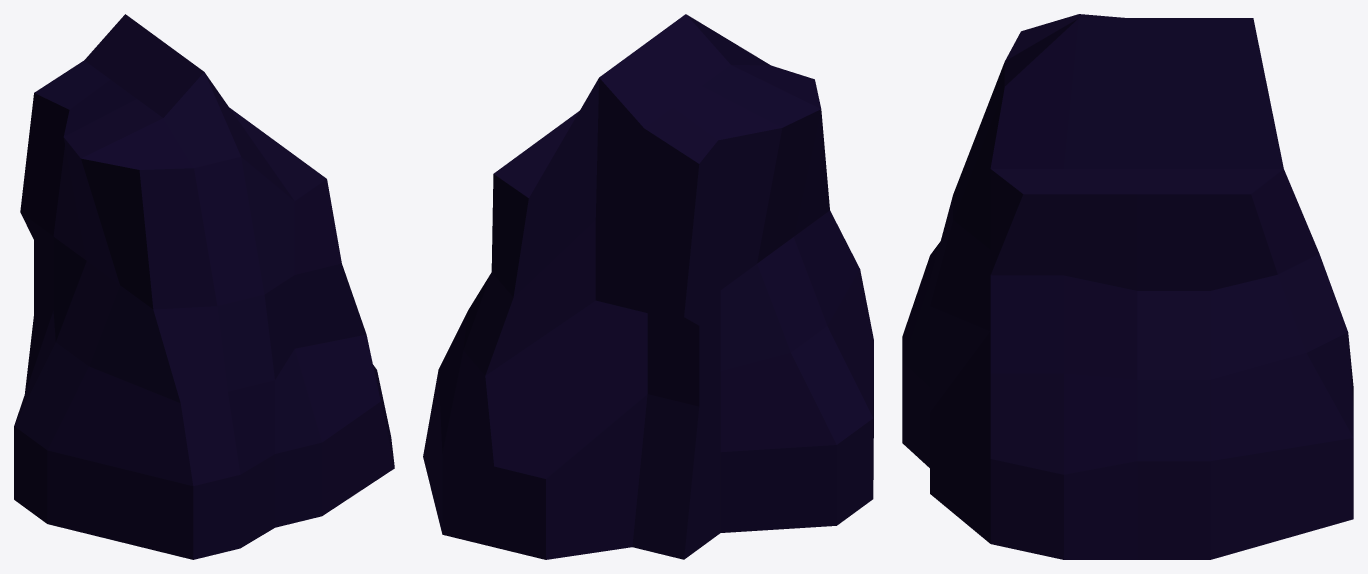
Rendered from Medium Oil rock.fbx.
The picture shows the model from 3 angles, left to right: view 1: azimuth 30°, elevation 25°; view 2: azimuth 150°, elevation 25°; view 3: azimuth 270°, elevation 25°; orthographic projection. The views are drawn at different scales.
Visible parts, largest first — view 1: pCube5; view 2: pCube5; view 3: pCube5.
Part boxes in pixels (x1=…): pCube5: x1=14, y1=14, x2=394, y2=559; pCube5: x1=423, y1=14, x2=873, y2=559; pCube5: x1=902, y1=14, x2=1353, y2=559.
Bounding box in the file's own units: 11.41 × 12.91 × 11.76.
1 material, 1 textured.
